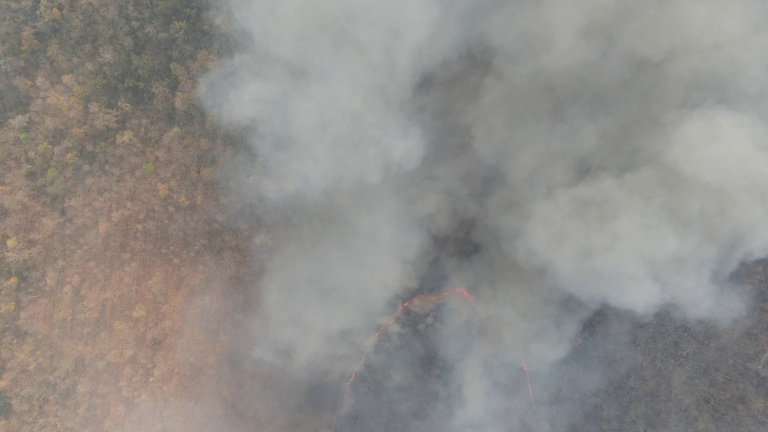fire: (339, 281, 486, 400), (510, 353, 551, 430)
smoke: (457, 1, 768, 333), (230, 1, 435, 359)
